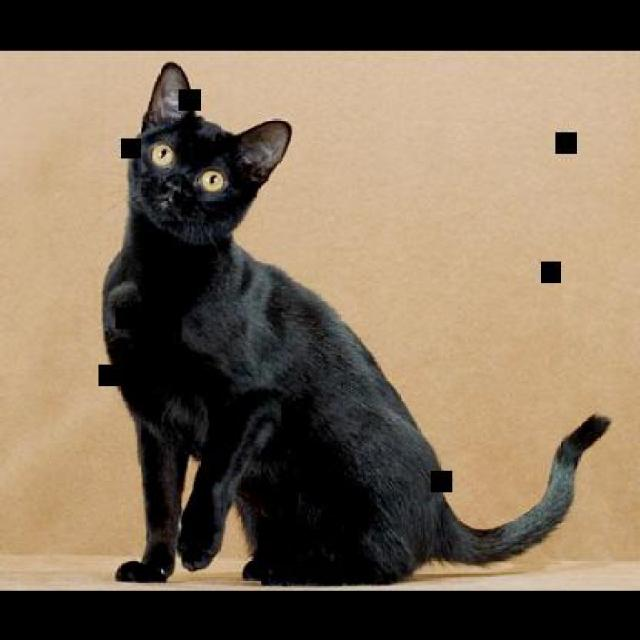unauthorized: (100, 60, 611, 586)
